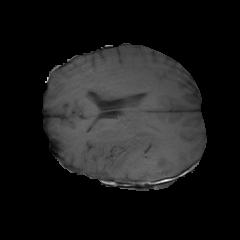glioma: (100, 123, 170, 174)
